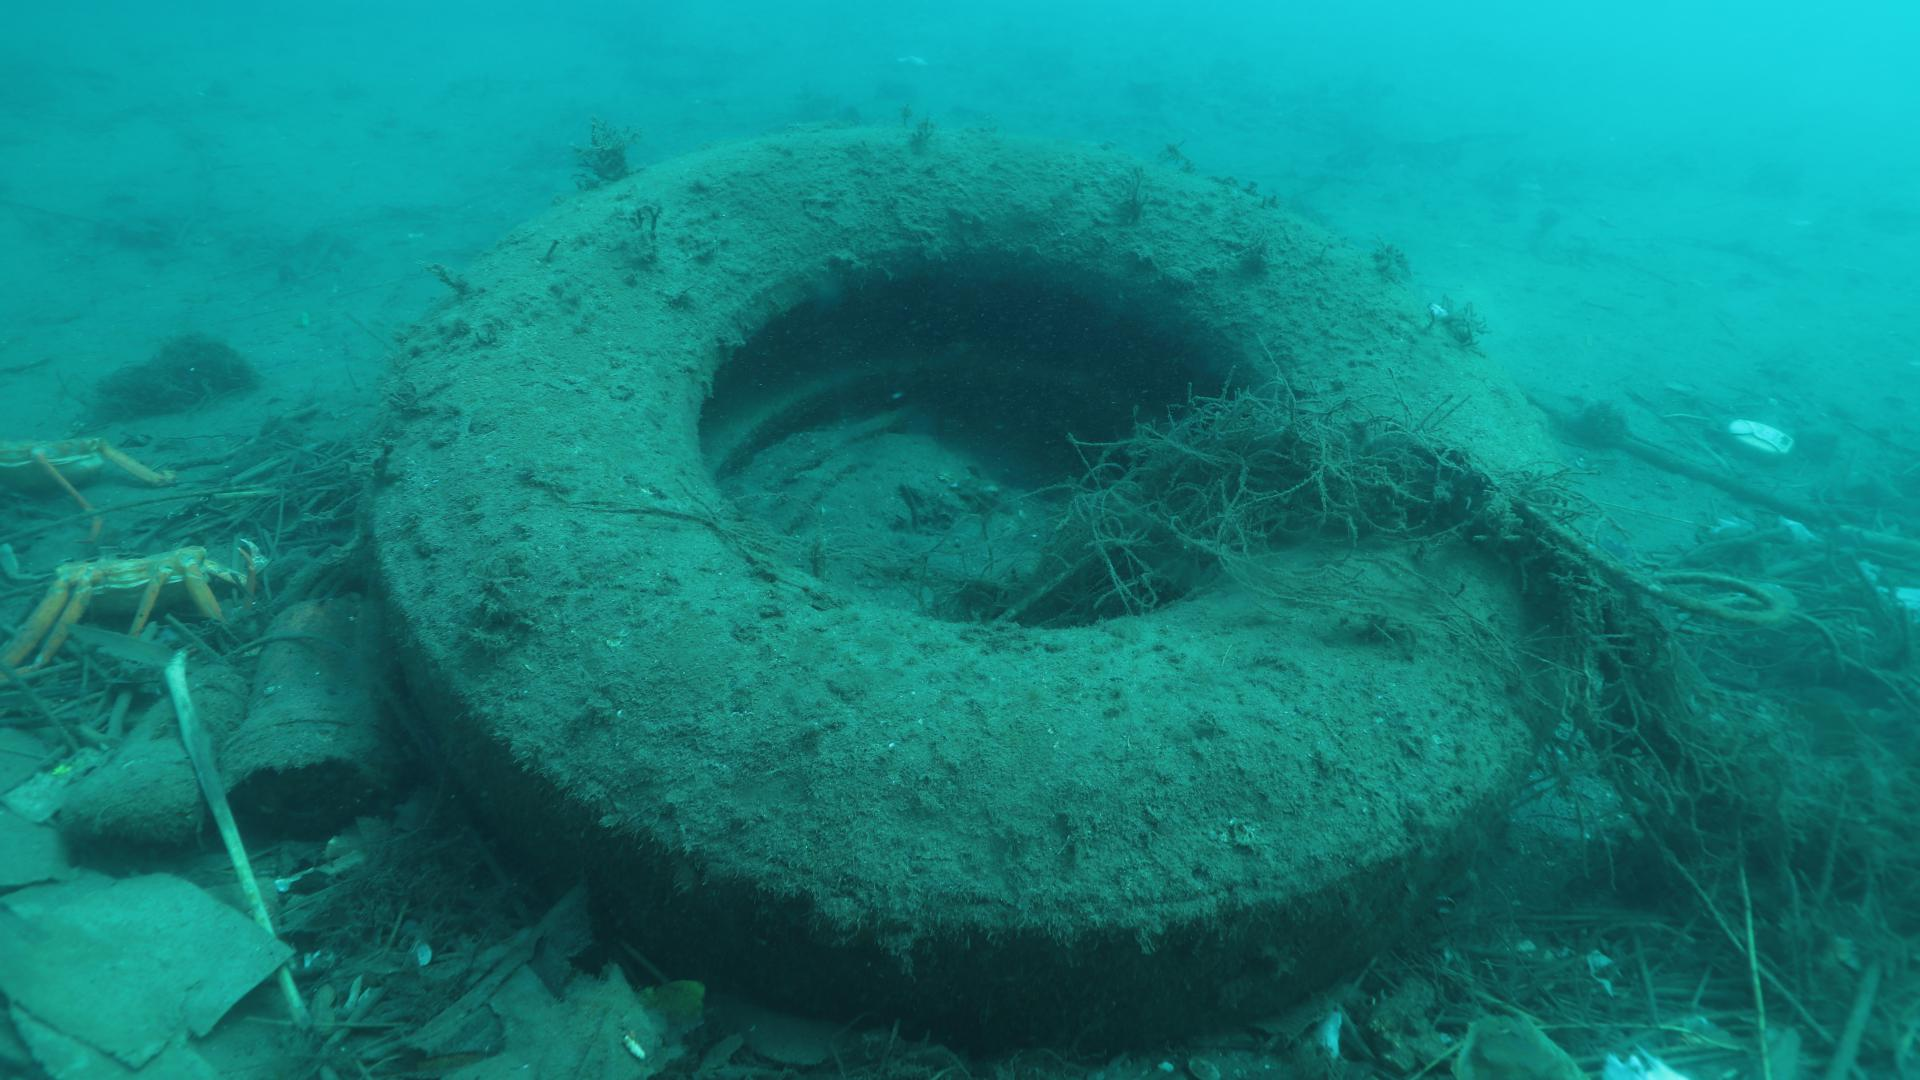rope: (1356, 367, 1851, 705)
tire: (375, 123, 1565, 1036)
